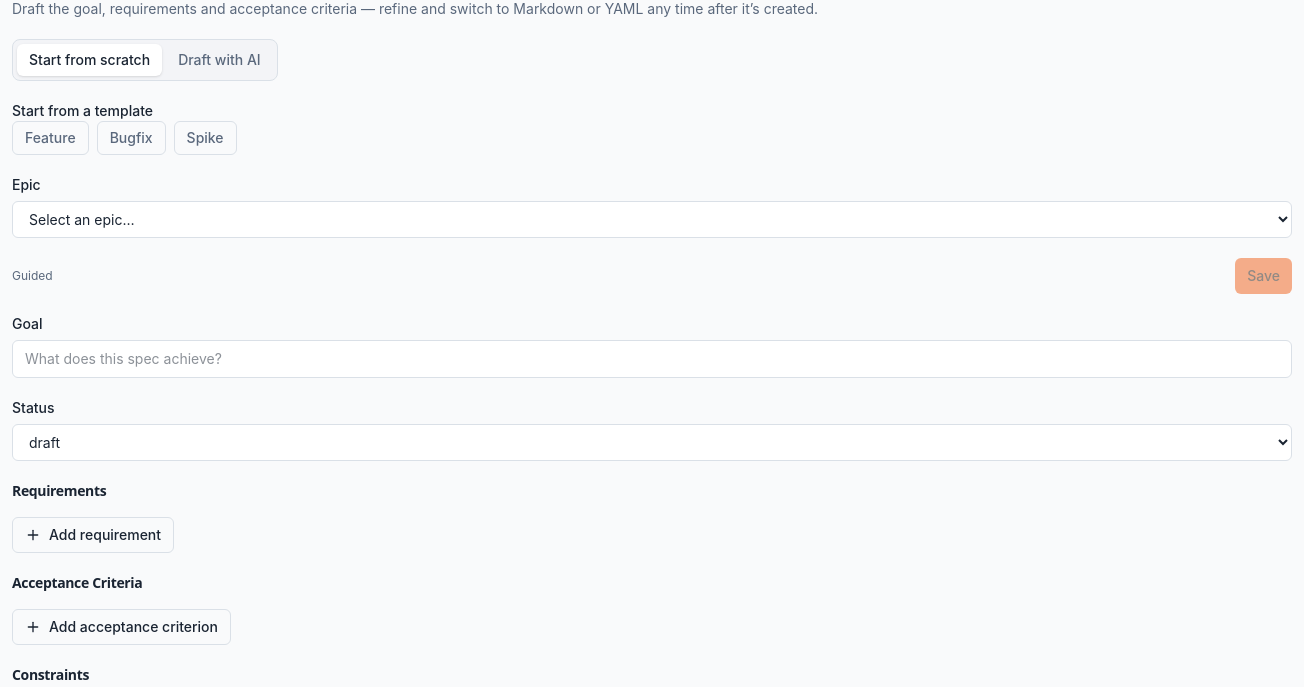
Test: NewSpecPage › Draft with AI entry › streams a drafted spec into the Guided form
This screenshot has width=1304, height=687.
Select "Auth overhaul" in the dropdown with test id "new-spec-epic" at (652, 220), box [12,201,1292,238]
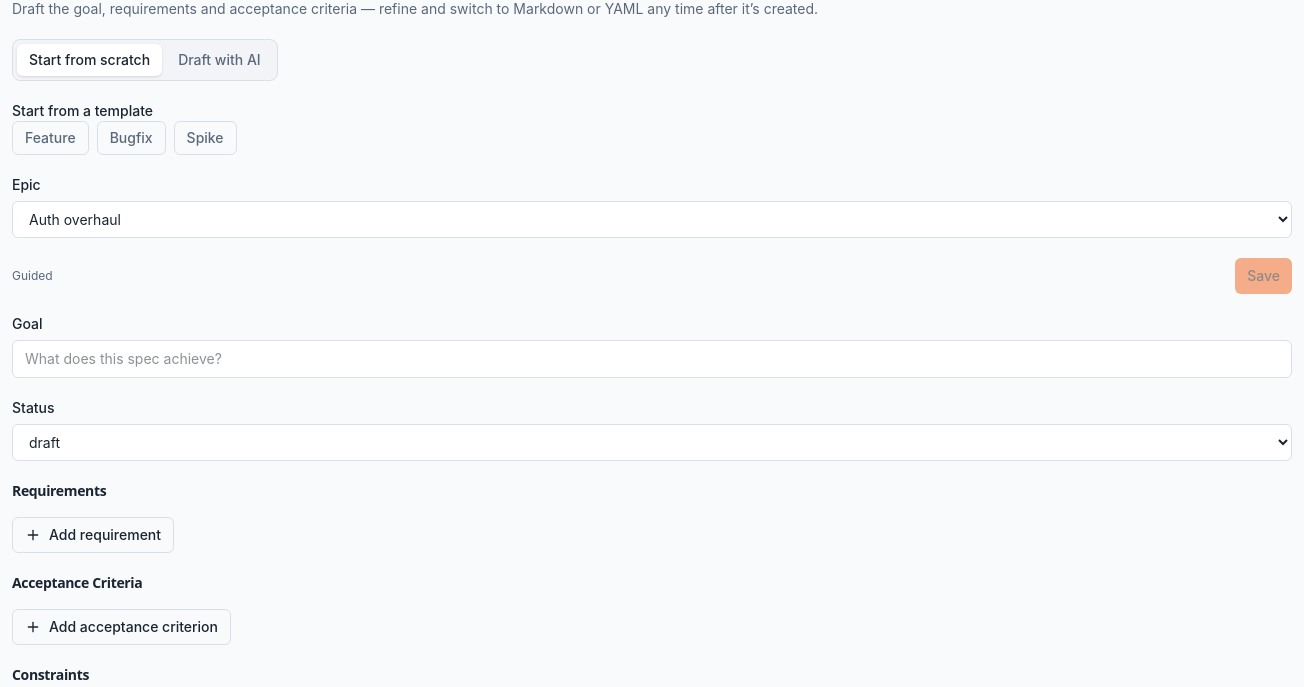
Click the tab with test id "new-spec-entry-ai" at (219, 60), box [166,44,273,76]
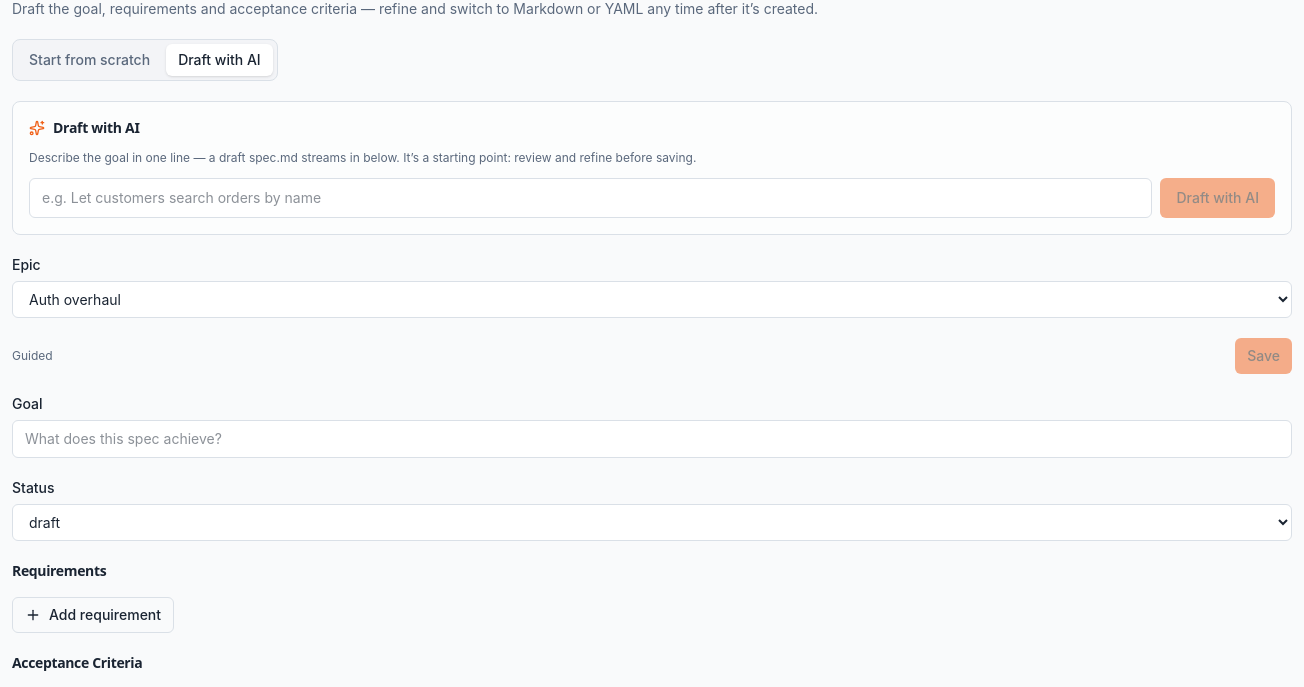
Type "Passwordless auth" into the field with test id "ai-draft-goal" at (591, 198), box [29,178,1152,218]
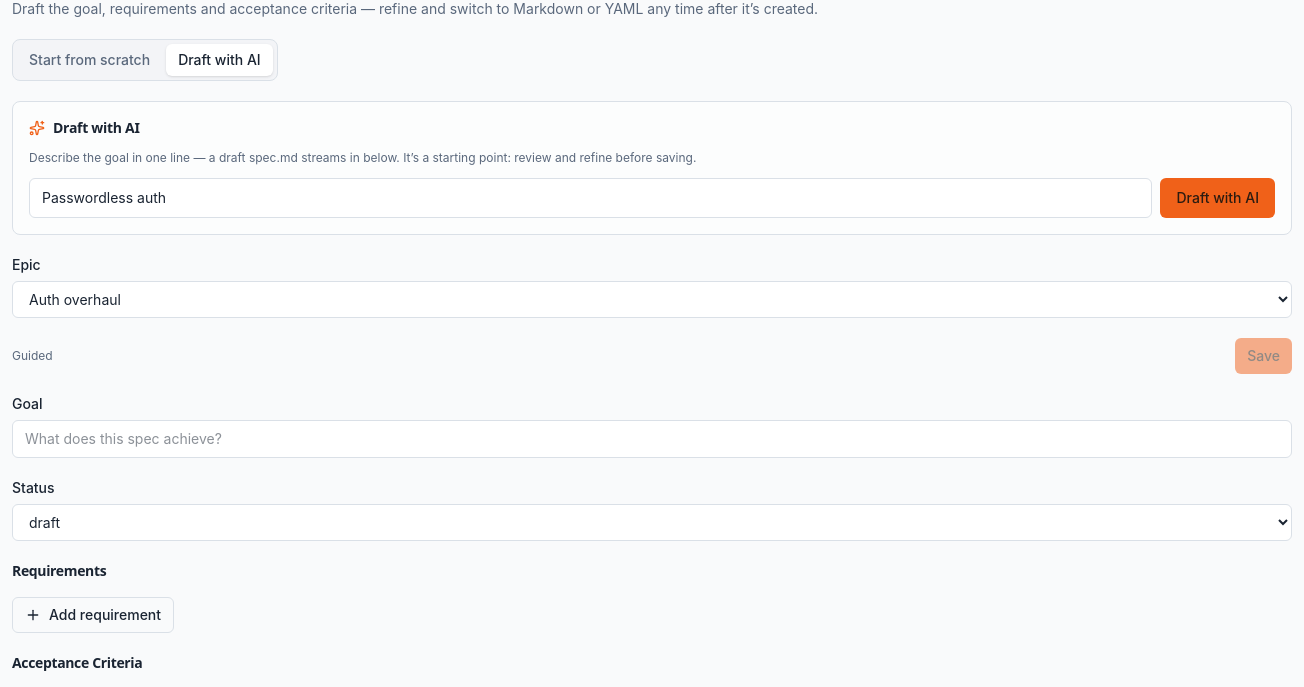
Click the button with test id "ai-draft-submit" at (1218, 198), box [1160,178,1275,218]
(page scrolled)
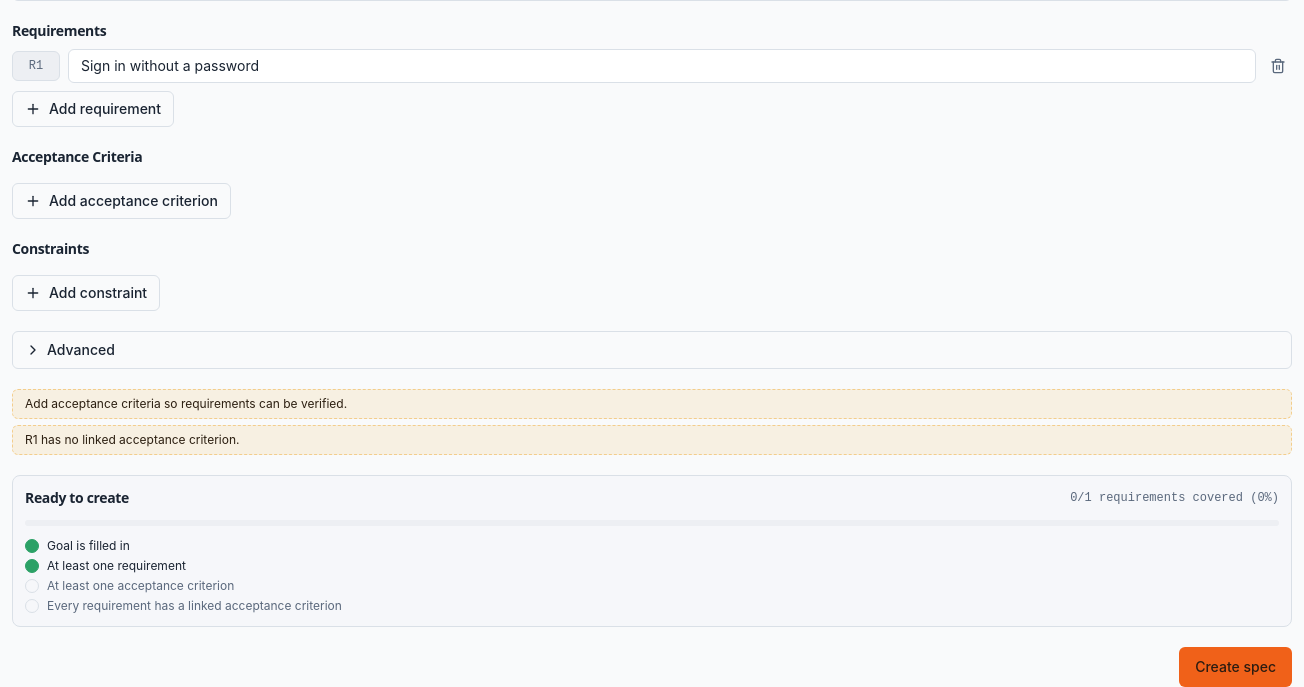
Result: the button with test id "create-spec" is enabled at [1179,647,1292,686]
